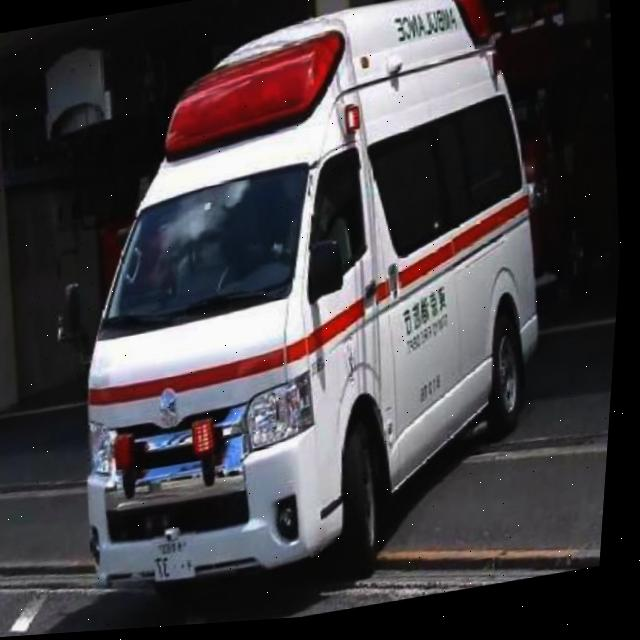emergency: (27, 0, 587, 621)
